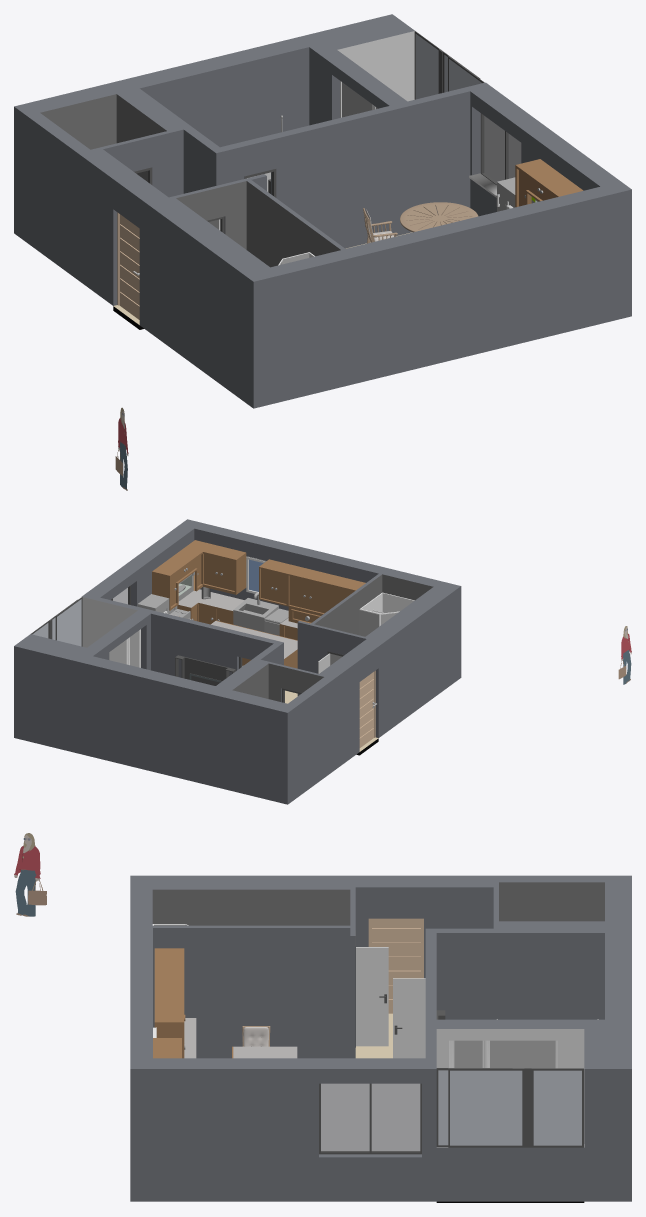
File: dream-apartment.glb
The picture shows the model from 3 angles, top to bottom: view 1: azimuth 30°, elevation 25°; view 2: azimuth 150°, elevation 25°; view 3: azimuth 270°, elevation 25°; orthographic projection. The views are drawn at different scales.
Bounding box in the file's own units: 12.36 × 2.78 × 11.3.
